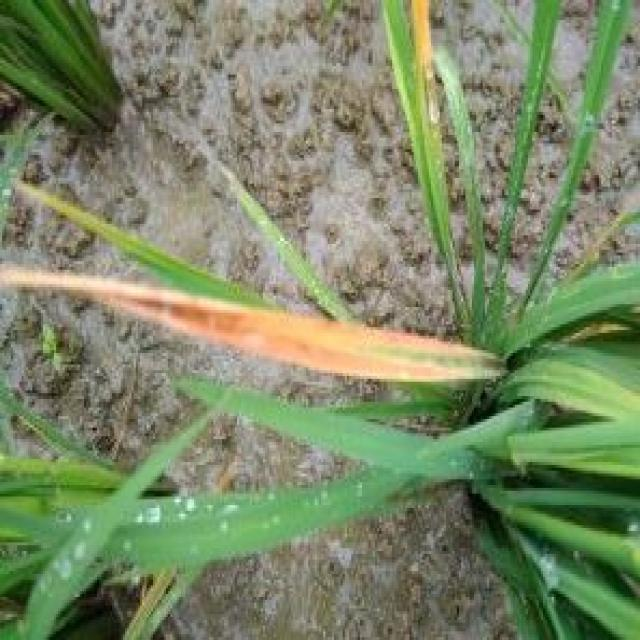Tungro: (4, 257, 491, 425)
